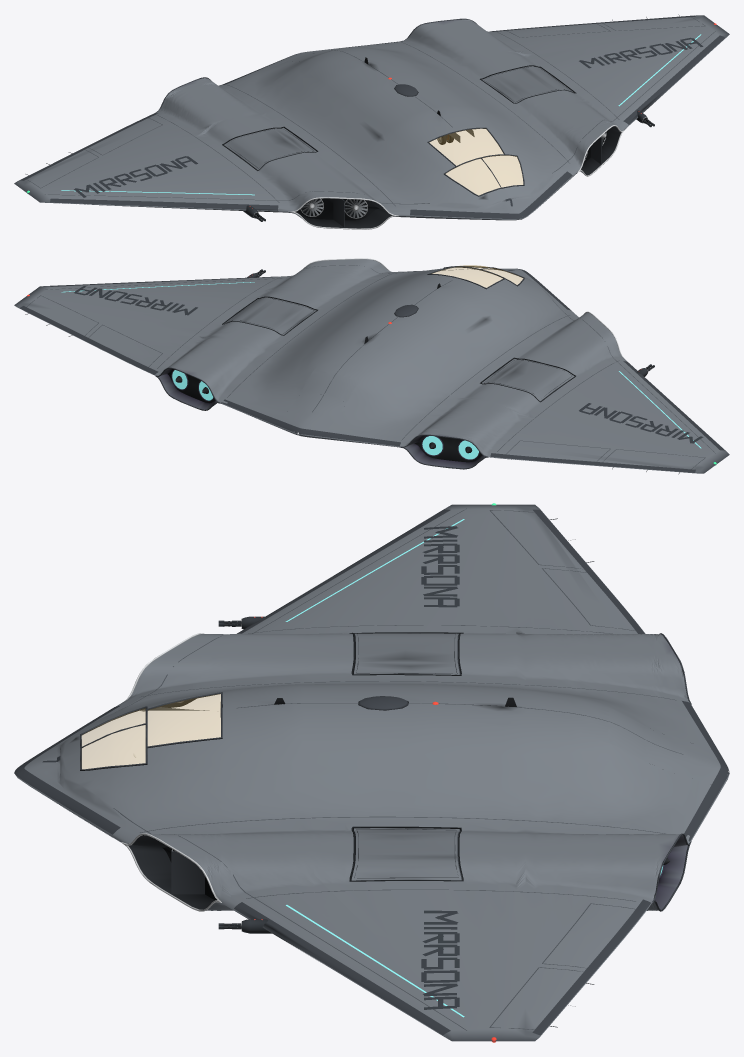
File: vtol.glb
3 renders of one model, top to bottom at view 1: azimuth 30°, elevation 25°; view 2: azimuth 150°, elevation 25°; view 3: azimuth 270°, elevation 25°, orthographic. The views are drawn at different scales.
Parts seen in each view (by area): view 1: body, canopy, pod_r, pod_l; view 2: body, pod_r, cargo_door, pod_l, canopy; view 3: body, canopy, pod_l, pod_r, cargo_door.
Part boxes in pixels (left/top/right/bottom): body: left=14, top=14, right=729, bottom=229; canopy: left=429, top=129, right=522, bottom=194; pod_r: left=224, top=127, right=316, bottom=170; pod_l: left=481, top=66, right=573, bottom=103; body: left=14, top=258, right=729, bottom=474; pod_r: left=482, top=358, right=574, bottom=401; cargo_door: left=278, top=392, right=345, bottom=438; pod_l: left=224, top=297, right=316, bottom=334; canopy: left=432, top=265, right=522, bottom=287; body: left=14, top=503, right=720, bottom=1042; canopy: left=82, top=694, right=220, bottom=768; pod_l: left=350, top=828, right=462, bottom=880; pod_r: left=353, top=633, right=460, bottom=674; cargo_door: left=647, top=727, right=729, bottom=790.
Bounding box in the file's own units: 44 × 5.52 × 24.8.
